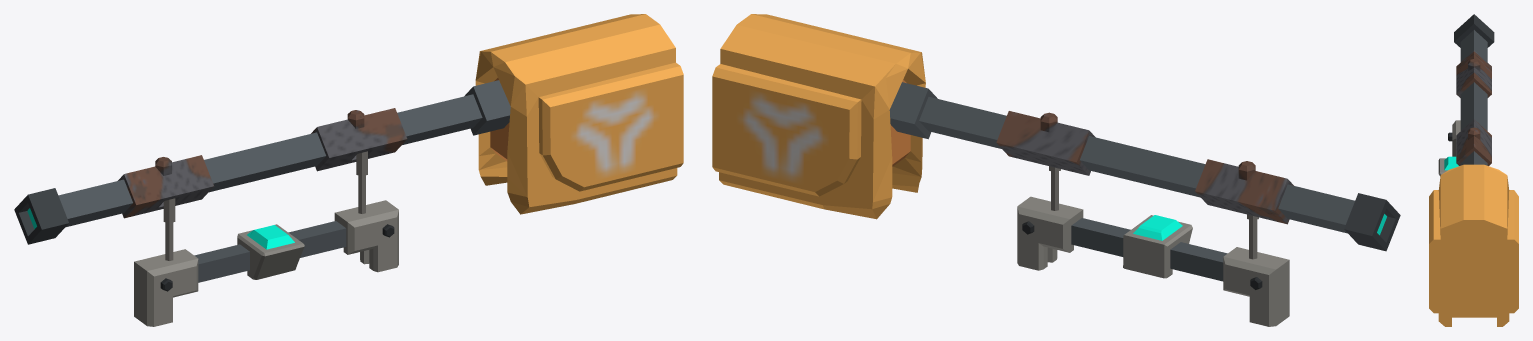
Rendered from SM_Prop_Hologram_Stand_02.fbx.
3 views of the same model, side by side, from view 1: azimuth 30°, elevation 25°; view 2: azimuth 150°, elevation 25°; view 3: azimuth 270°, elevation 25° (orthographic). The views are drawn at different scales.
Visible parts, largest first — view 1: SM_Prop_Hologram_Stand_02; view 2: SM_Prop_Hologram_Stand_02; view 3: SM_Prop_Hologram_Stand_02.
Part boxes in pixels (<box>): SM_Prop_Hologram_Stand_02: <box>14,14,683,326</box>; SM_Prop_Hologram_Stand_02: <box>712,14,1400,326</box>; SM_Prop_Hologram_Stand_02: <box>1429,14,1518,326</box>.
Size of the model in its own units: 202 by 53 by 34.46.
